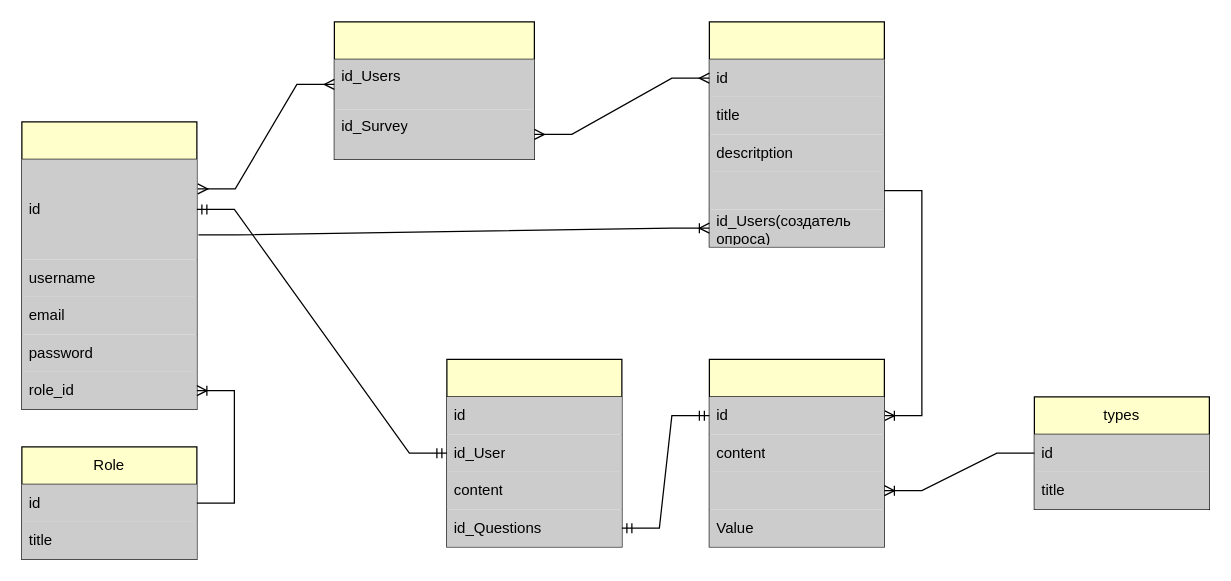
The diagram is 1231 pixels wide and 581 high, and some of its shapes have lost their labels. Here are the shapes that lost their labels. From the top down, the box of each, then its label:
(333, 21, 534, 159): Survey Communication
(708, 21, 884, 247): Survey
(709, 171, 884, 209): id_Quetions
(21, 121, 197, 409): Users
(446, 358, 622, 547): Answers
(708, 358, 884, 547): Questions
(709, 471, 884, 509): id_types
